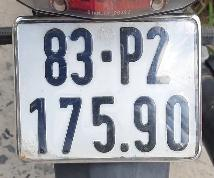0: (163, 92, 193, 155)
1: (28, 94, 50, 156)
2: (145, 20, 174, 91)
3: (69, 25, 97, 87)
5: (88, 92, 118, 154)
7: (56, 94, 83, 156)
8: (39, 26, 69, 89)
9: (131, 91, 159, 154)
P: (116, 23, 145, 90)
